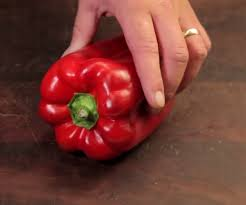bell pepper: (35, 42, 160, 161)
